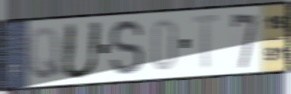0: (150, 17, 179, 74)
7: (230, 11, 258, 70)
Q: (26, 25, 65, 82)
S: (108, 17, 146, 79)
T: (190, 12, 224, 73)
U: (60, 20, 105, 82)
